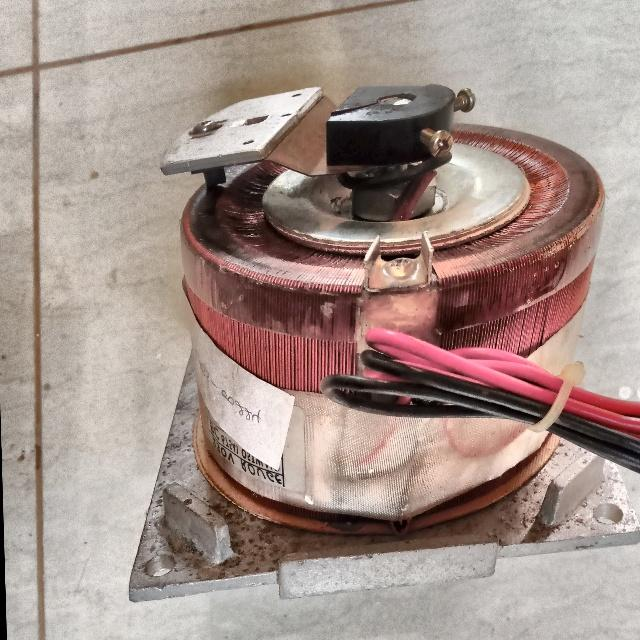AC Transformer: (132, 16, 636, 587)
